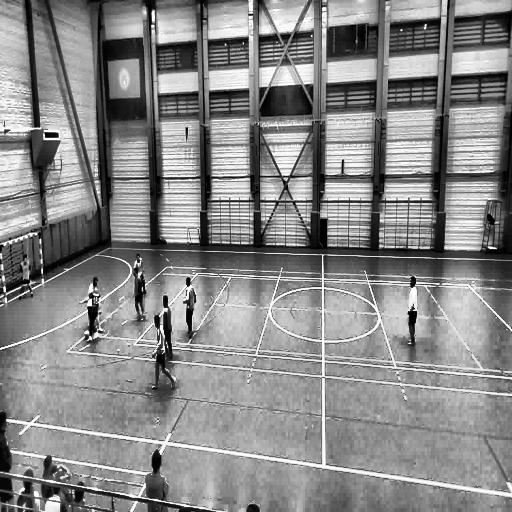ball: (82, 327, 90, 342)
player: (40, 454, 76, 502), (152, 313, 174, 391), (0, 409, 16, 512), (145, 449, 169, 512), (79, 277, 101, 345), (158, 294, 176, 362), (86, 274, 104, 336), (14, 470, 40, 512), (406, 276, 418, 348), (183, 276, 196, 340), (132, 266, 145, 322), (132, 252, 147, 296), (20, 255, 34, 297)
